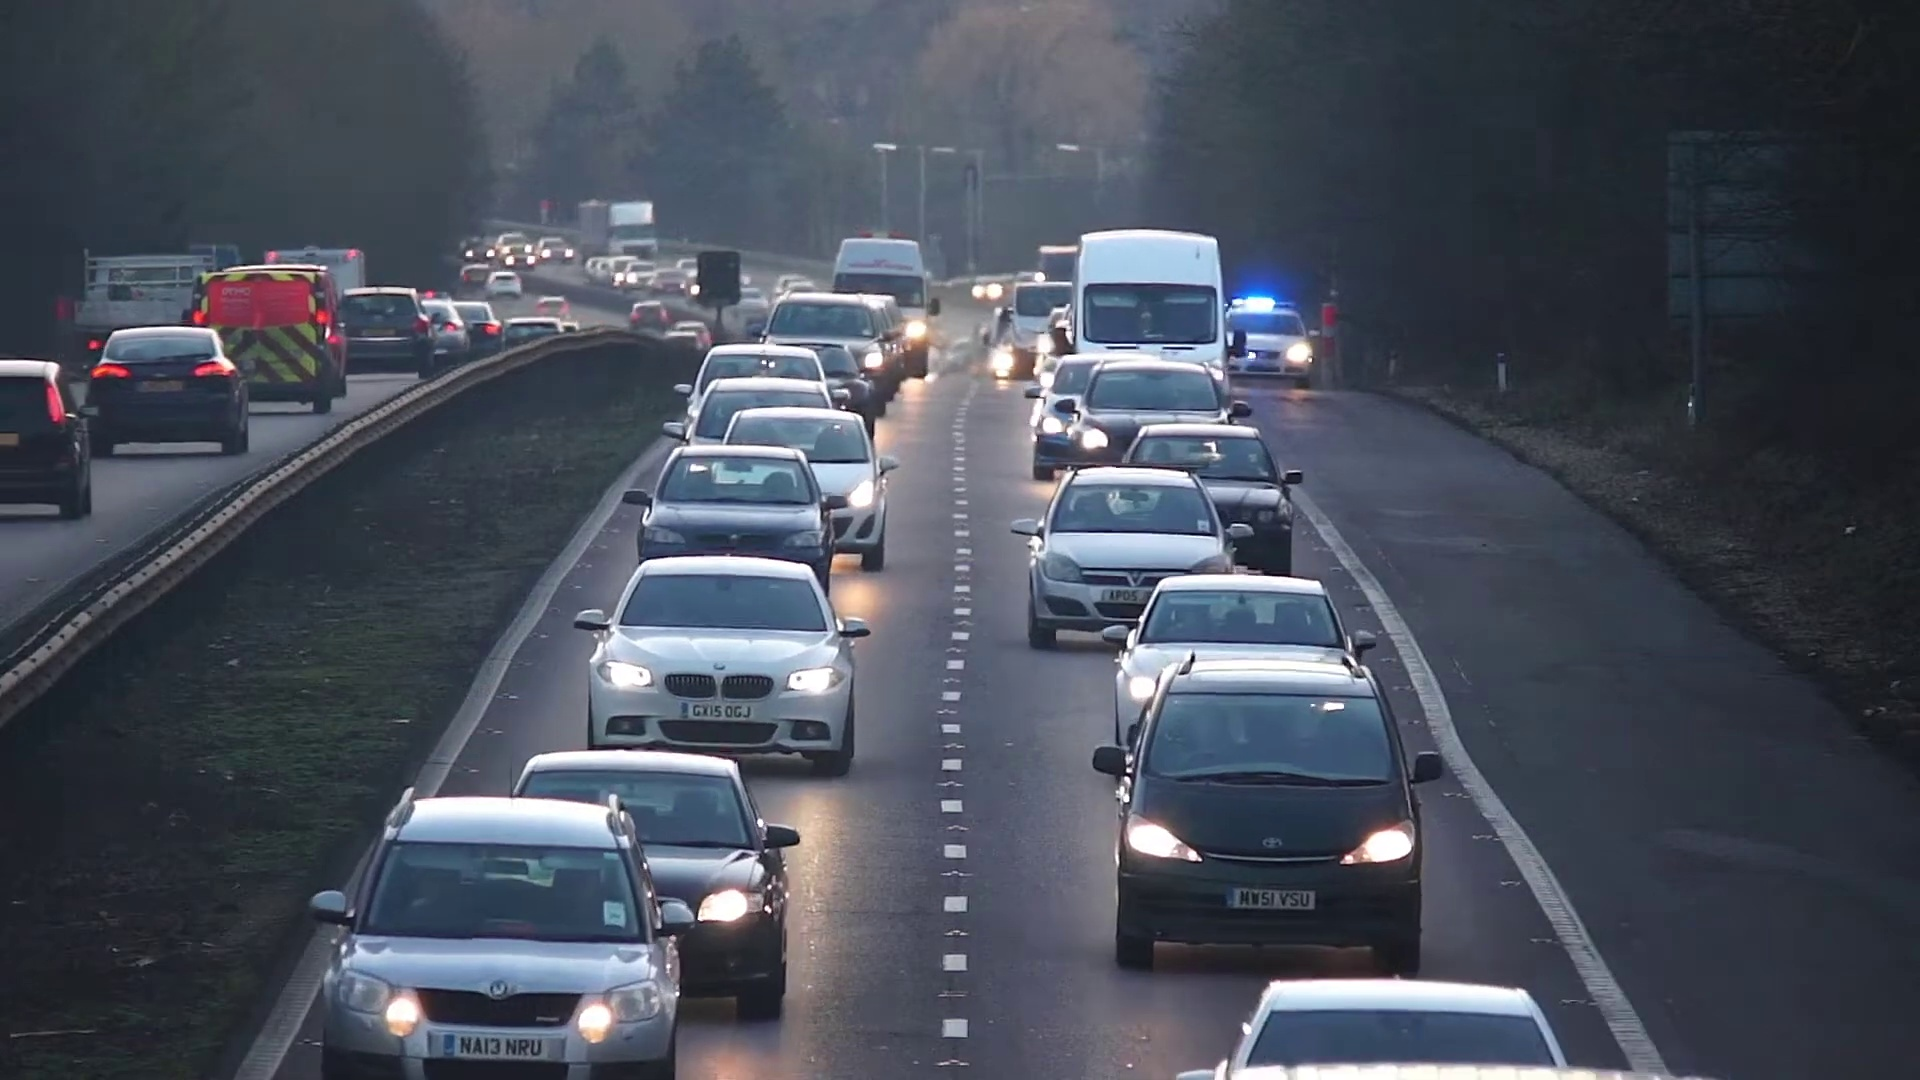license_plate: (444, 1034, 550, 1065), (1230, 887, 1318, 920), (682, 699, 757, 722), (1100, 583, 1151, 603)
